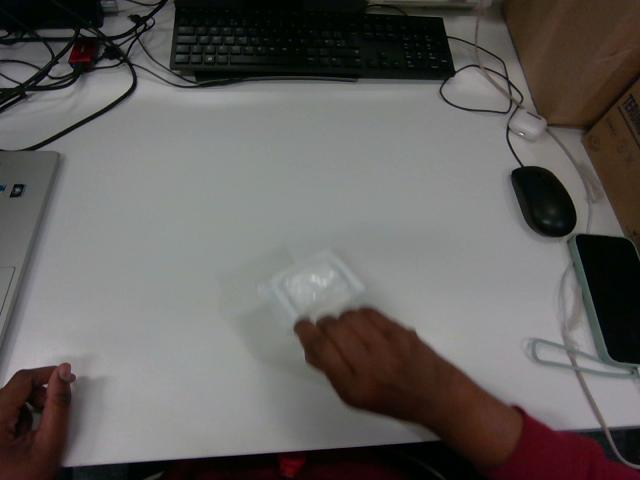gauze: (261, 251, 364, 324)
